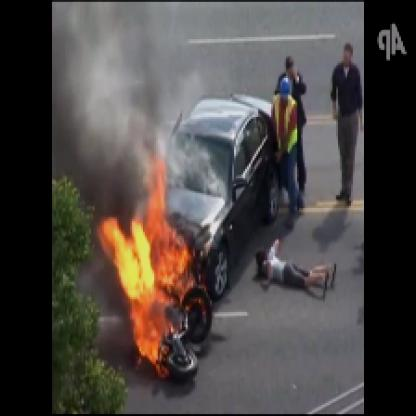Fire: (98, 146, 208, 382)
Smoke: (54, 2, 171, 173)
